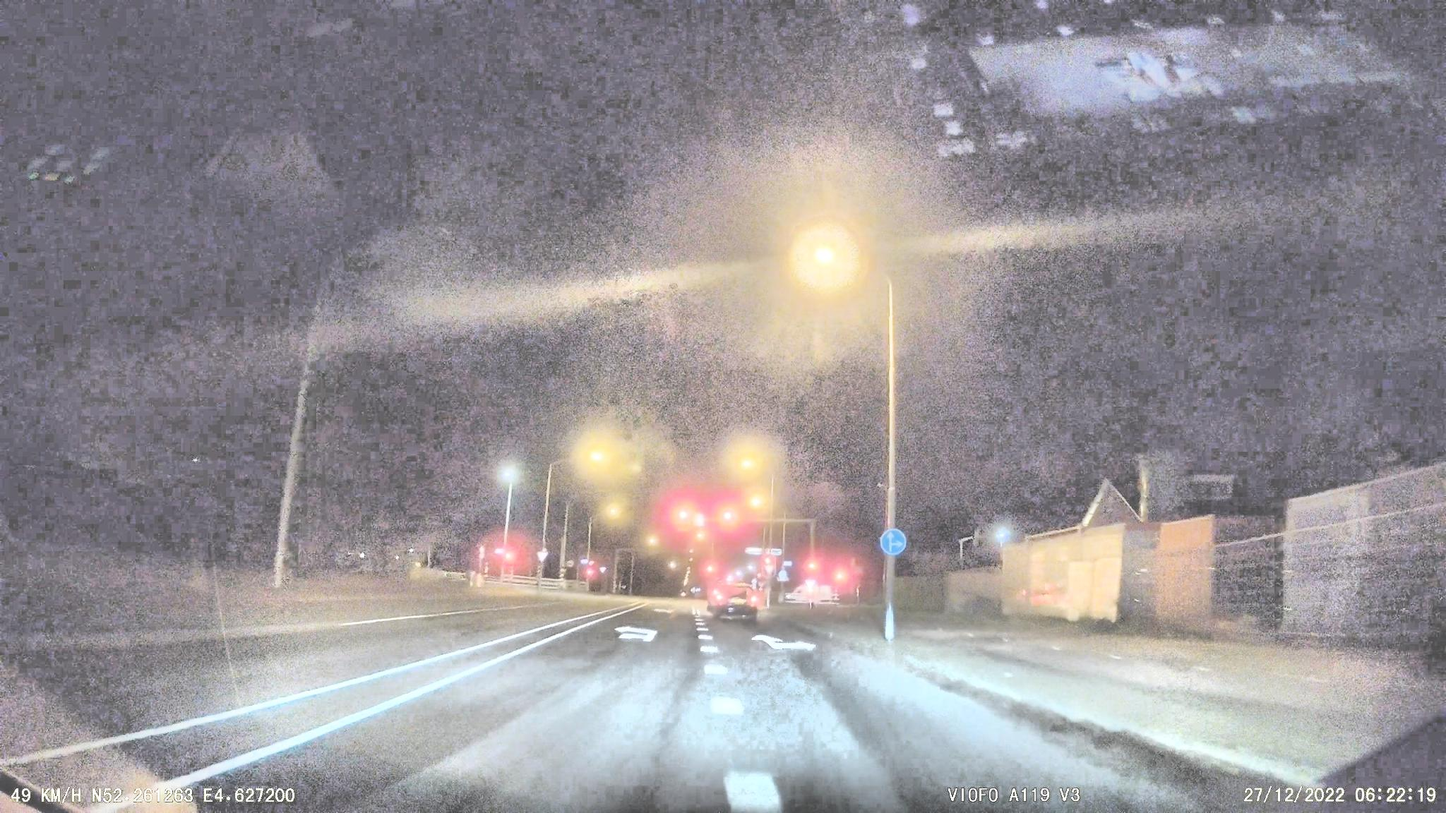Roads: (76, 607, 1248, 813)
